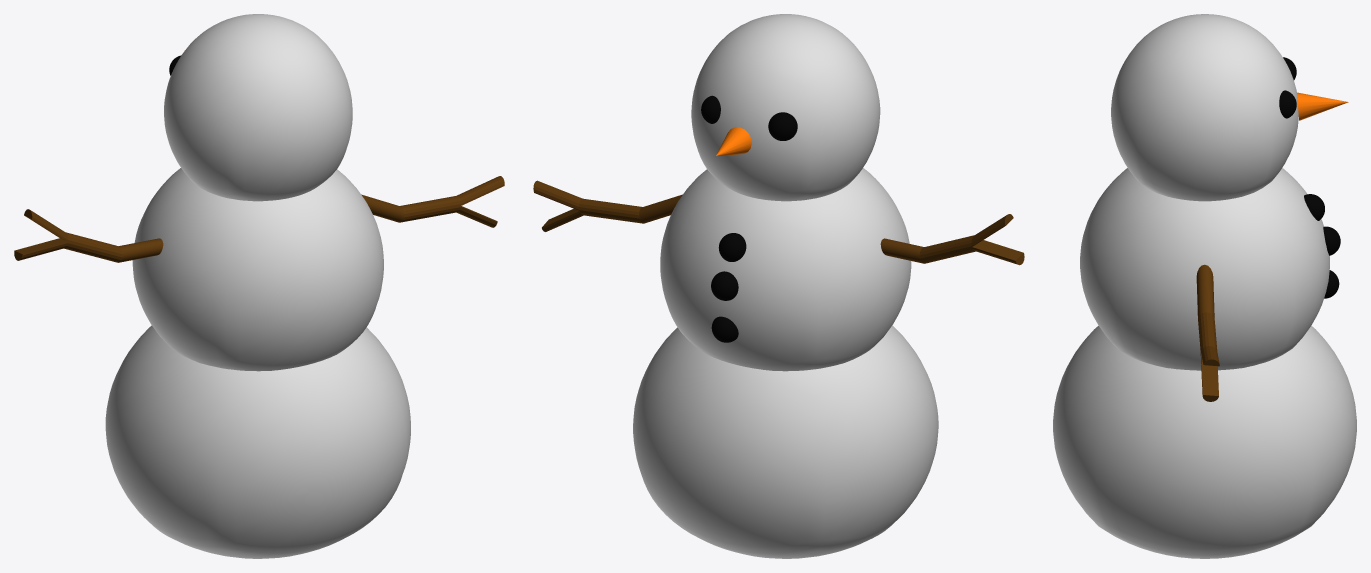
Rendered from SM_Snowman.fbx.
3 renders of one model, left to right at view 1: azimuth 30°, elevation 25°; view 2: azimuth 150°, elevation 25°; view 3: azimuth 270°, elevation 25°, orthographic.
Parts seen in each view (by area): view 1: SM_MERGED_StaticMeshActor_10; view 2: SM_MERGED_StaticMeshActor_10; view 3: SM_MERGED_StaticMeshActor_10.
Boxes of the visible parts, x1,y1,x2,y2 form: SM_MERGED_StaticMeshActor_10: (14,14,504,558); SM_MERGED_StaticMeshActor_10: (533,14,1024,558); SM_MERGED_StaticMeshActor_10: (1053,14,1356,558).
Bounding box in the file's own units: 181 × 184 × 98.1.
